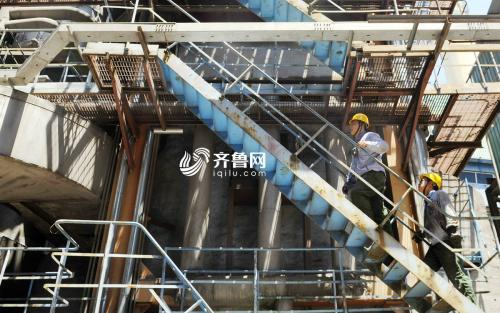helmet: (415, 166, 445, 198), (344, 112, 370, 138)
